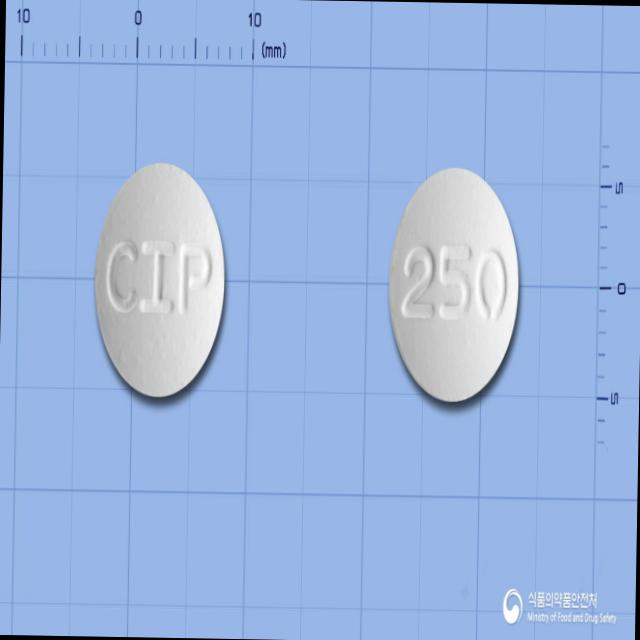Ciprocin: (382, 158, 528, 414), (89, 156, 233, 404)
